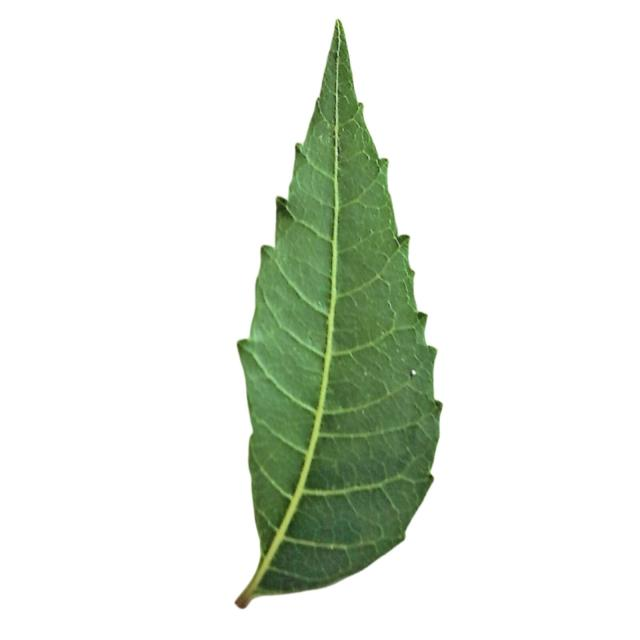Medicinal-Neem: (233, 15, 443, 608)
